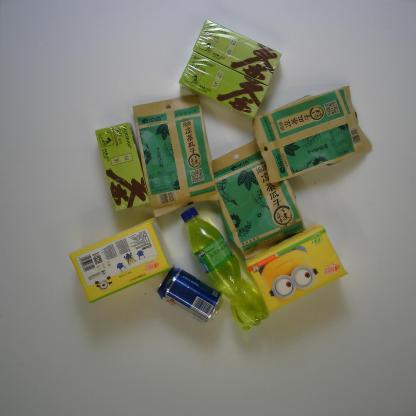Alcohol: (155, 267, 224, 325)
Dried Food: (252, 86, 373, 184), (212, 138, 306, 260), (132, 94, 222, 218)
Drink: (180, 207, 269, 332)
Instant Drink: (192, 18, 283, 86), (178, 51, 269, 118), (94, 122, 151, 212)
Tissue: (244, 223, 350, 314), (68, 216, 176, 304)
